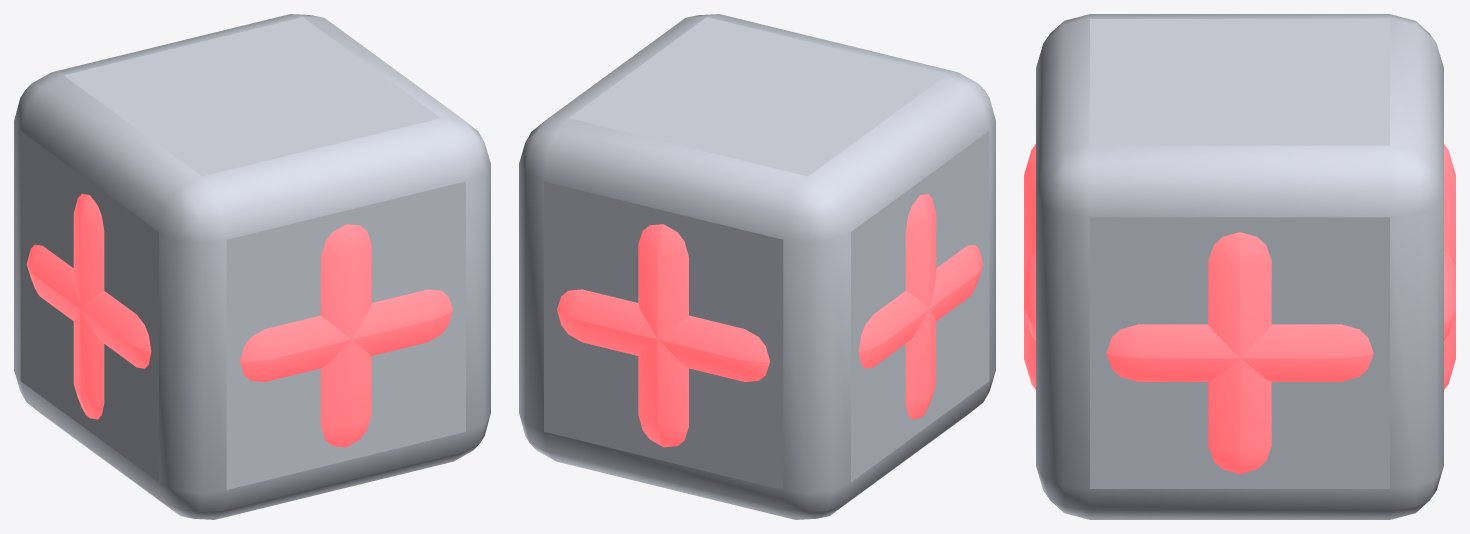
The model's file is pickup_health_large.glb.
3 renders of one model, left to right at view 1: azimuth 30°, elevation 25°; view 2: azimuth 150°, elevation 25°; view 3: azimuth 270°, elevation 25°, orthographic. The views are drawn at different scales.
Parts seen in each view (by area): view 1: pickup_health_large; view 2: pickup_health_large; view 3: pickup_health_large.
Part boxes in pixels (<box>): pickup_health_large: <box>14,14,490,519</box>; pickup_health_large: <box>519,14,995,519</box>; pickup_health_large: <box>1024,14,1455,519</box>.
Size of the model in its own units: 0.486 by 0.459 by 0.486.
